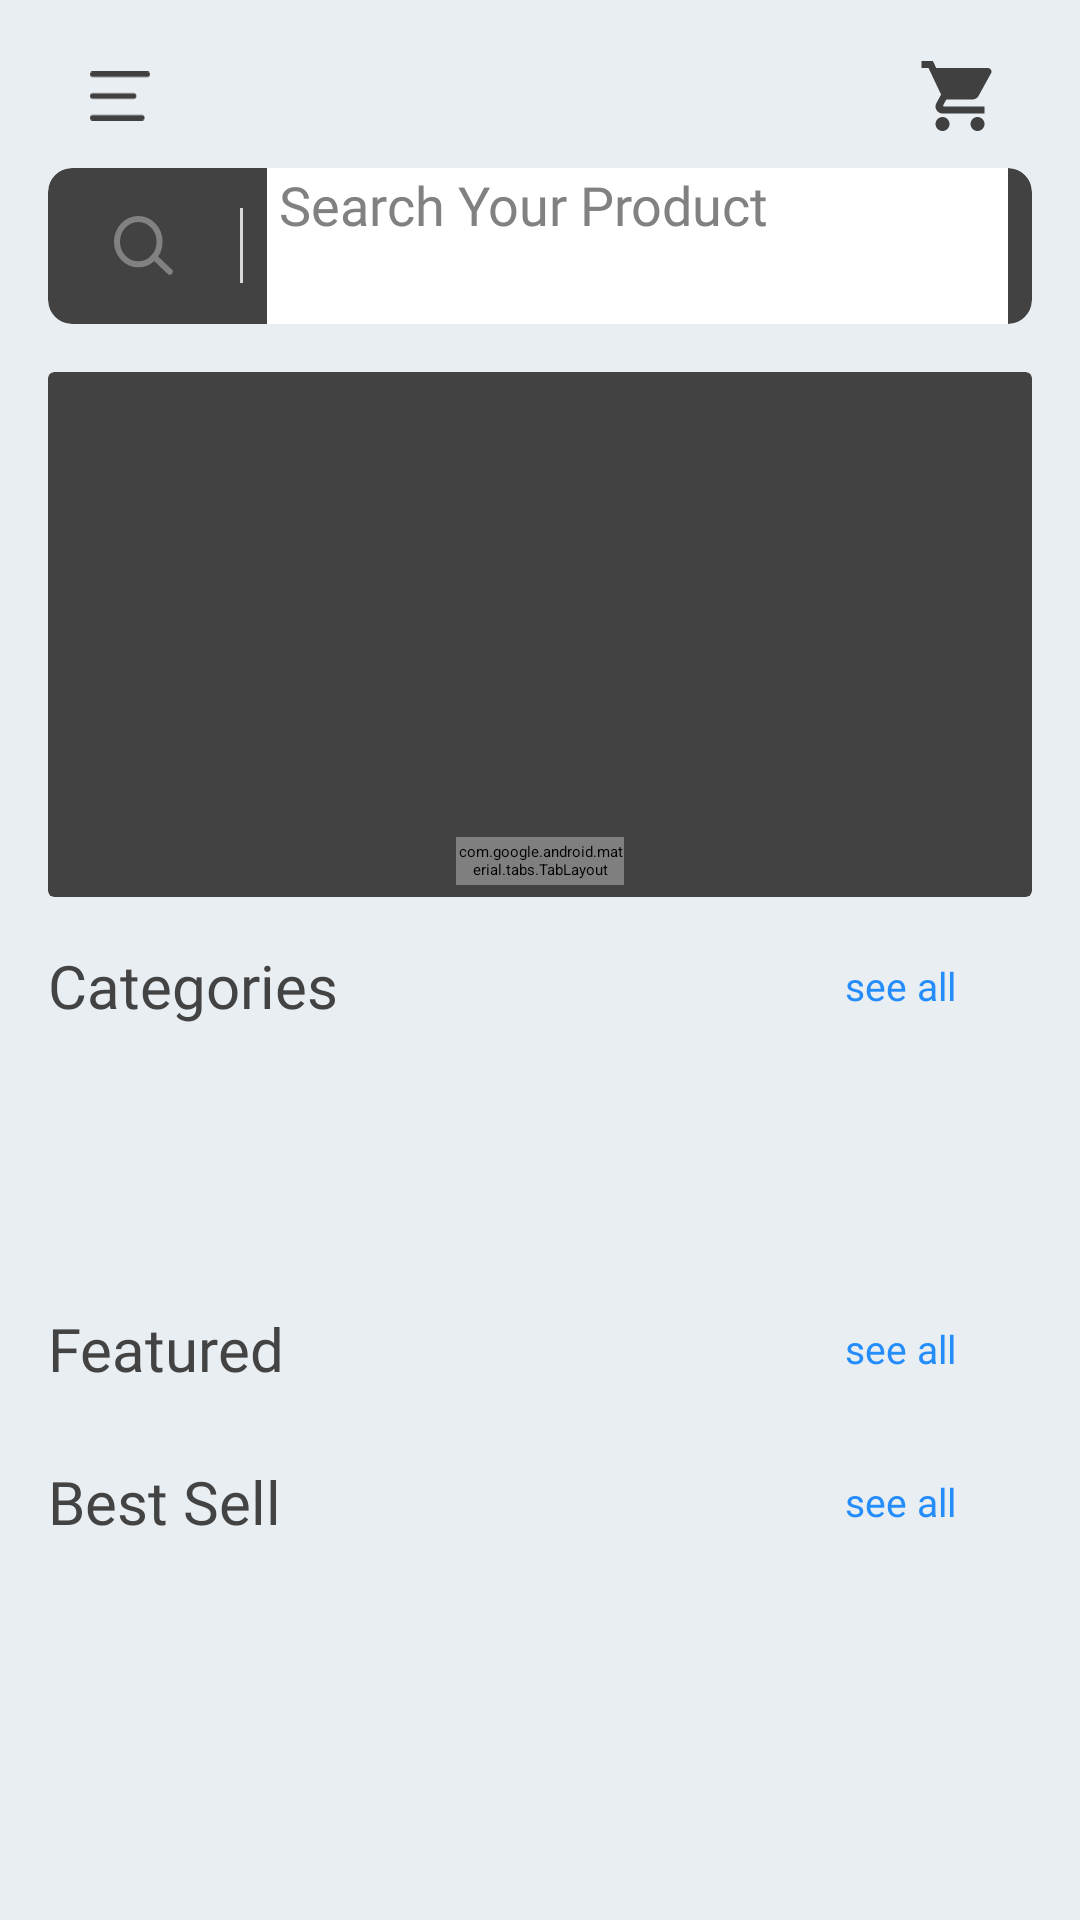

Icons on this 1080×1920 Android screen, each with its box as box=[x1, y1, x2, y2]:
menu: box=[90, 71, 150, 121]
shopping cart: box=[921, 61, 992, 131]
